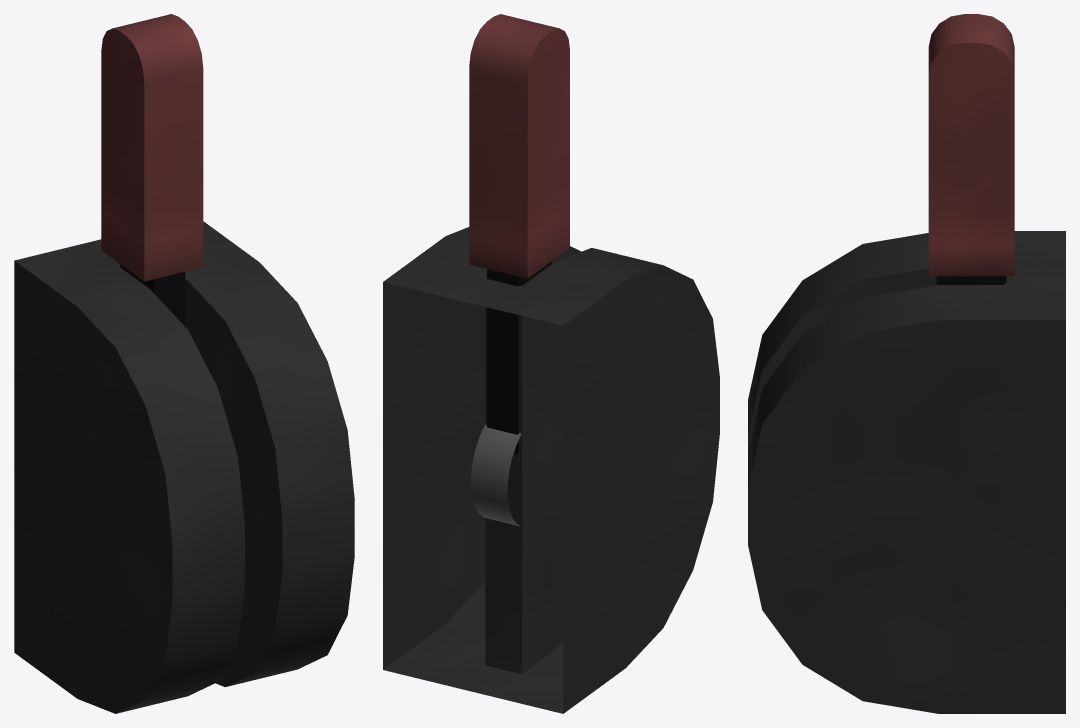
The model's file is lever.fbx.
3 views of the same model, side by side, from view 1: azimuth 30°, elevation 25°; view 2: azimuth 150°, elevation 25°; view 3: azimuth 270°, elevation 25° (orthographic).
Parts seen in each view (by area): view 1: lever_body, lever; view 2: lever_body, lever; view 3: lever_body, lever.
Part boxes in pixels (x1,y1,x2,y2): lever_body: [14, 221, 354, 713]; lever: [101, 14, 203, 326]; lever_body: [383, 227, 719, 713]; lever: [469, 14, 569, 526]; lever_body: [748, 231, 1065, 713]; lever: [928, 14, 1014, 284].
Size of the model in its own units: 0.1745 by 0.5843 by 0.2625.
